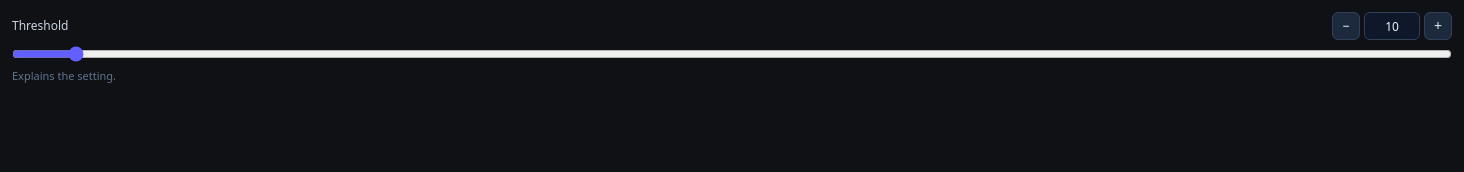
NumberSliderField › follows the slider, and keeps the number field and slider in step with each other
Set the slider named "Threshold slider" to "99": (573, 54) [12,46,1452,62]
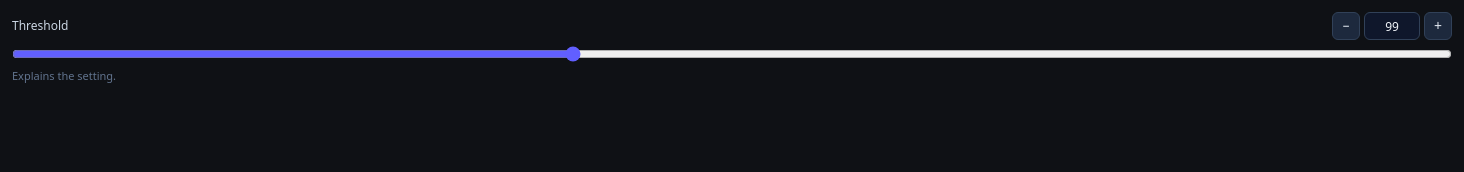
Now the field labelled "Threshold" holds "99", box [1364,12,1420,40]
